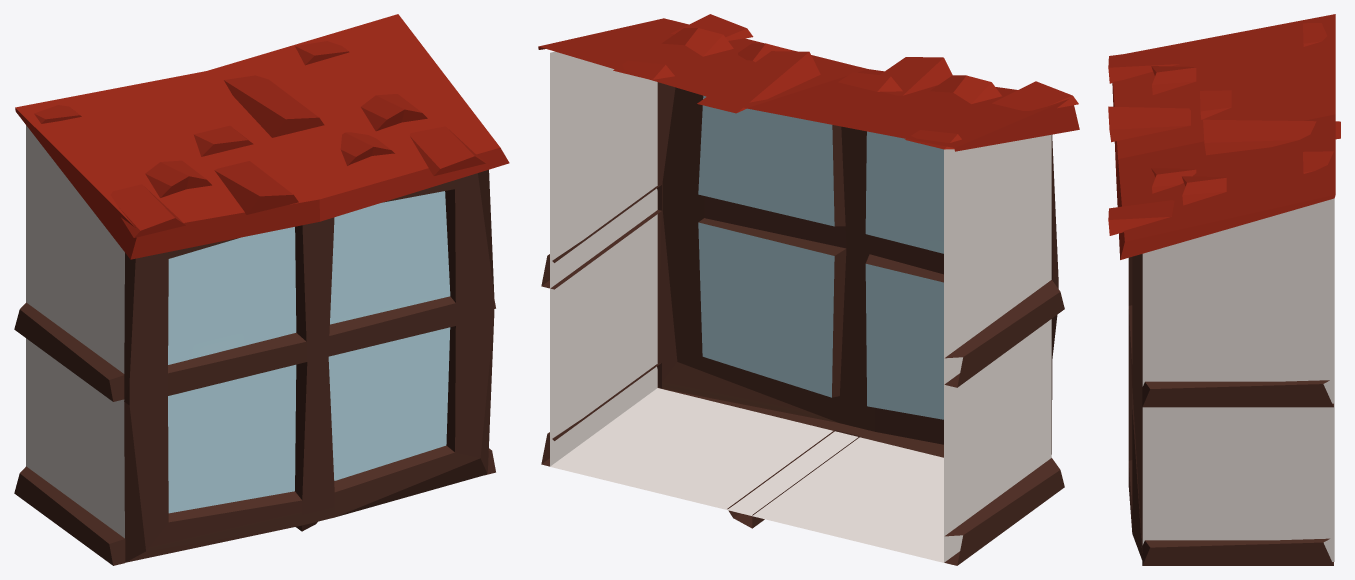
The model's file is SM_L_R_Home_Pop_Up_Quare_window.fbx.
The picture shows the model from 3 angles, left to right: view 1: azimuth 30°, elevation 25°; view 2: azimuth 150°, elevation 25°; view 3: azimuth 270°, elevation 25°; orthographic projection. The views are drawn at different scales.
Parts seen in each view (by area): view 1: SM_L_R_Home_Pop_Up_Square_Window; view 2: SM_L_R_Home_Pop_Up_Square_Window; view 3: SM_L_R_Home_Pop_Up_Square_Window.
Part boxes in pixels (bbox=[...]): SM_L_R_Home_Pop_Up_Square_Window: bbox=[14, 14, 509, 565]; SM_L_R_Home_Pop_Up_Square_Window: bbox=[538, 14, 1079, 565]; SM_L_R_Home_Pop_Up_Square_Window: bbox=[1108, 14, 1340, 565].
Bounding box in the file's own units: 147 × 144 × 79.34.
